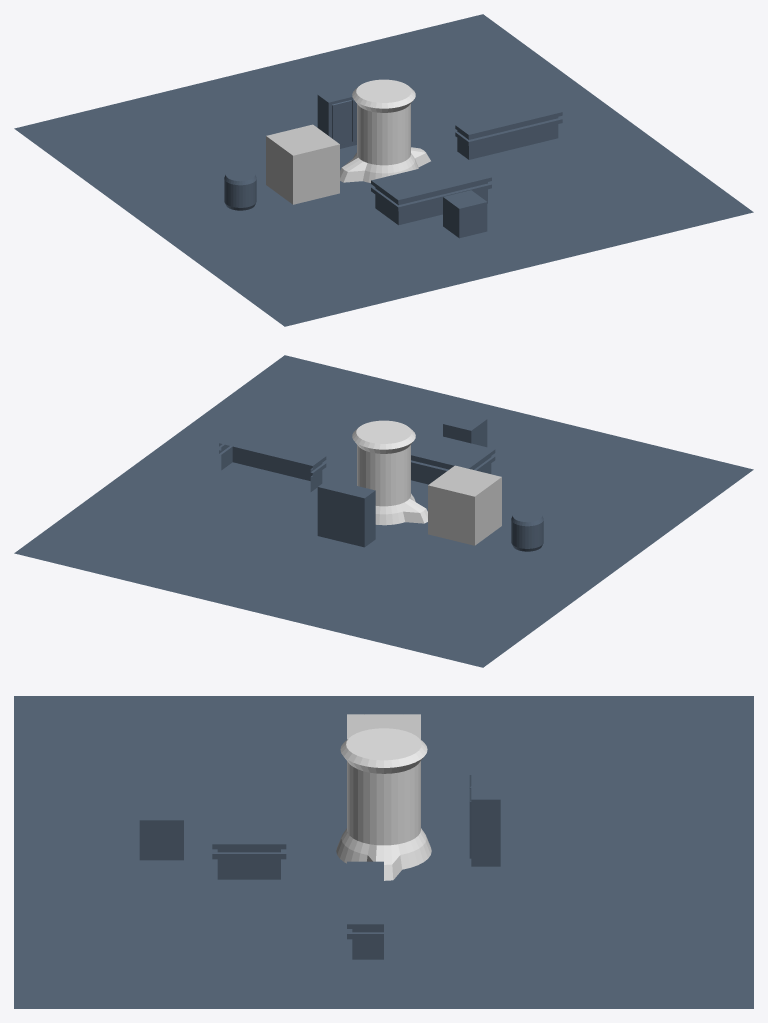
The model's file is SampleLevel 1.fbx.
The picture shows the model from 3 angles, top to bottom: view 1: azimuth 30°, elevation 25°; view 2: azimuth 150°, elevation 25°; view 3: azimuth 270°, elevation 25°; orthographic projection. The views are drawn at different scales.
Parts seen in each view (by area): view 1: Plane, SpecimenTank1, Cube, LabTable, LabTableWall, Cabinet, Box, Barrel; view 2: Plane, SpecimenTank1, Cube, LabTableWall, Cabinet, LabTable, Barrel, Box; view 3: Plane, SpecimenTank1, LabTable, LabTableWall, Cabinet, Box, Cube.
Part boxes in pixels (bbox=[...]): Plane: bbox=[14, 14, 753, 326]; SpecimenTank1: bbox=[340, 79, 430, 182]; Cube: bbox=[266, 124, 339, 204]; LabTable: bbox=[371, 157, 491, 225]; LabTableWall: bbox=[455, 102, 562, 159]; Cabinet: bbox=[317, 84, 361, 148]; Box: bbox=[443, 190, 487, 238]; Barrel: bbox=[224, 169, 256, 210]; Plane: bbox=[14, 355, 753, 667]; SpecimenTank1: bbox=[352, 420, 427, 525]; Cube: bbox=[428, 465, 501, 545]; LabTableWall: bbox=[219, 433, 326, 492]; Cabinet: bbox=[317, 479, 375, 547]; LabTable: bbox=[411, 429, 495, 484]; Barrel: bbox=[511, 510, 543, 551]; Box: bbox=[443, 412, 487, 447]; Plane: bbox=[14, 696, 753, 1008]; SpecimenTank1: bbox=[336, 728, 431, 880]; LabTable: bbox=[212, 781, 286, 879]; LabTableWall: bbox=[347, 861, 383, 959]; Cabinet: bbox=[469, 768, 500, 866]; Box: bbox=[139, 801, 183, 860]; Cube: bbox=[347, 714, 420, 739].
Bounding box in the file's own units: 2000 × 323 × 2000.
